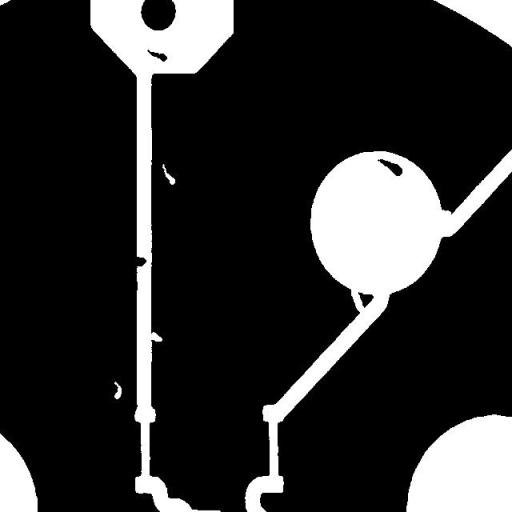copper: (370, 151, 410, 183), (140, 42, 174, 68)
mousebite: (430, 202, 458, 228), (142, 324, 170, 349)
open: (342, 275, 372, 320)
pin-hole: (154, 156, 182, 192), (106, 374, 129, 406)
spur: (122, 248, 154, 274)
